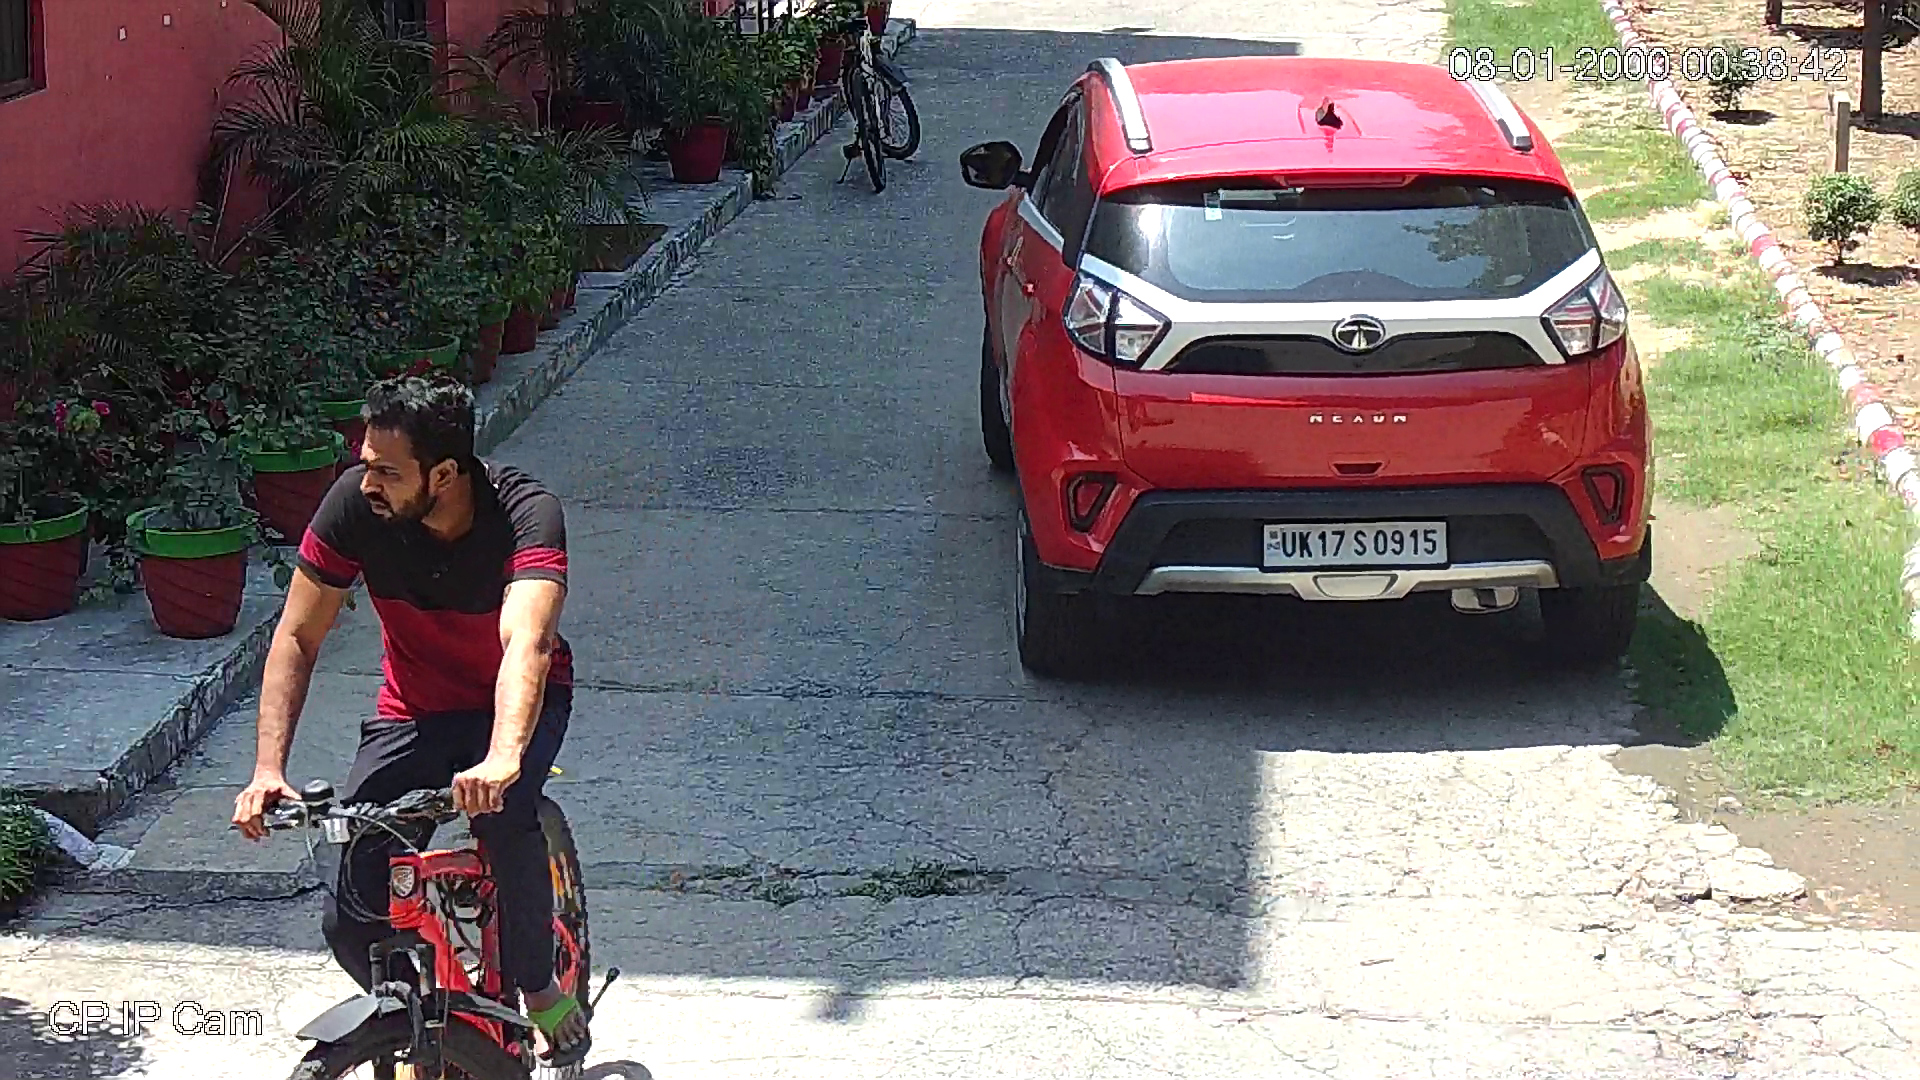plate: (1261, 520, 1448, 570)
